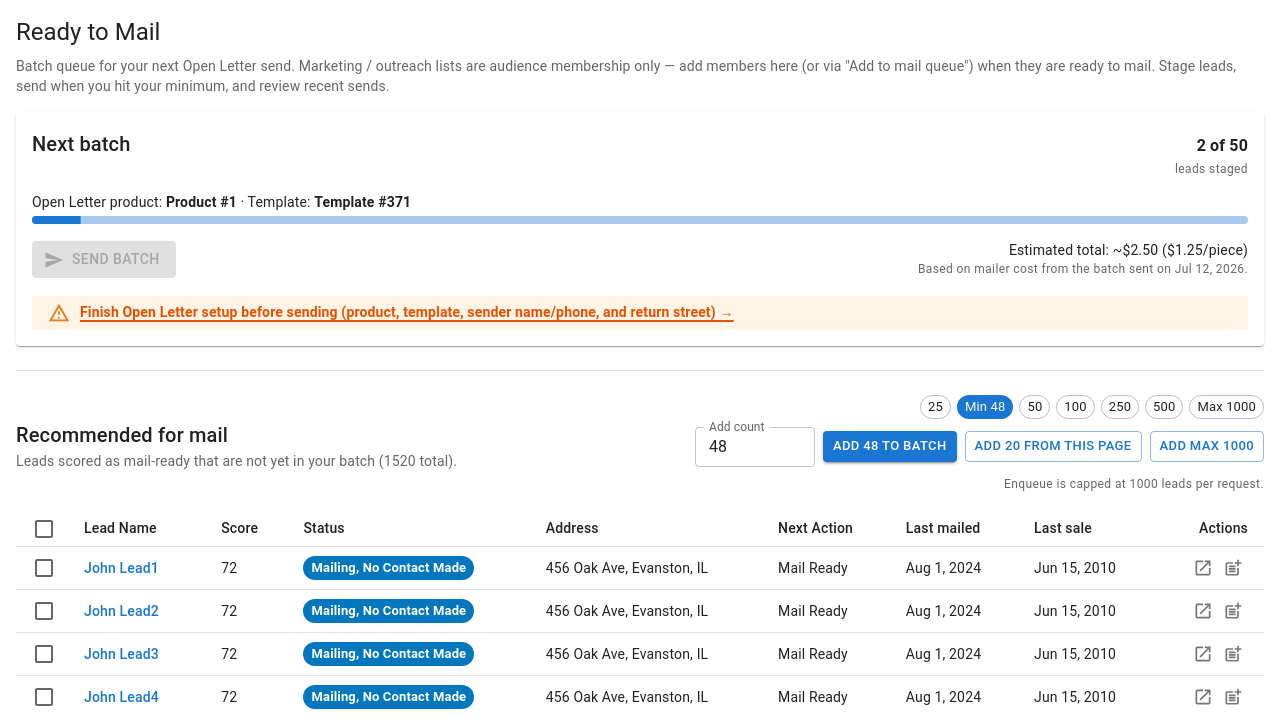
Test case: ReadyToMailQueue › shows loading-more state after page add strips rows while total remains
Check: the text "(1520 total)" is shown, box [16, 450, 457, 470]
Click the button with test id "add-page-candidates-button" at [1053, 447], box [964, 431, 1142, 462]
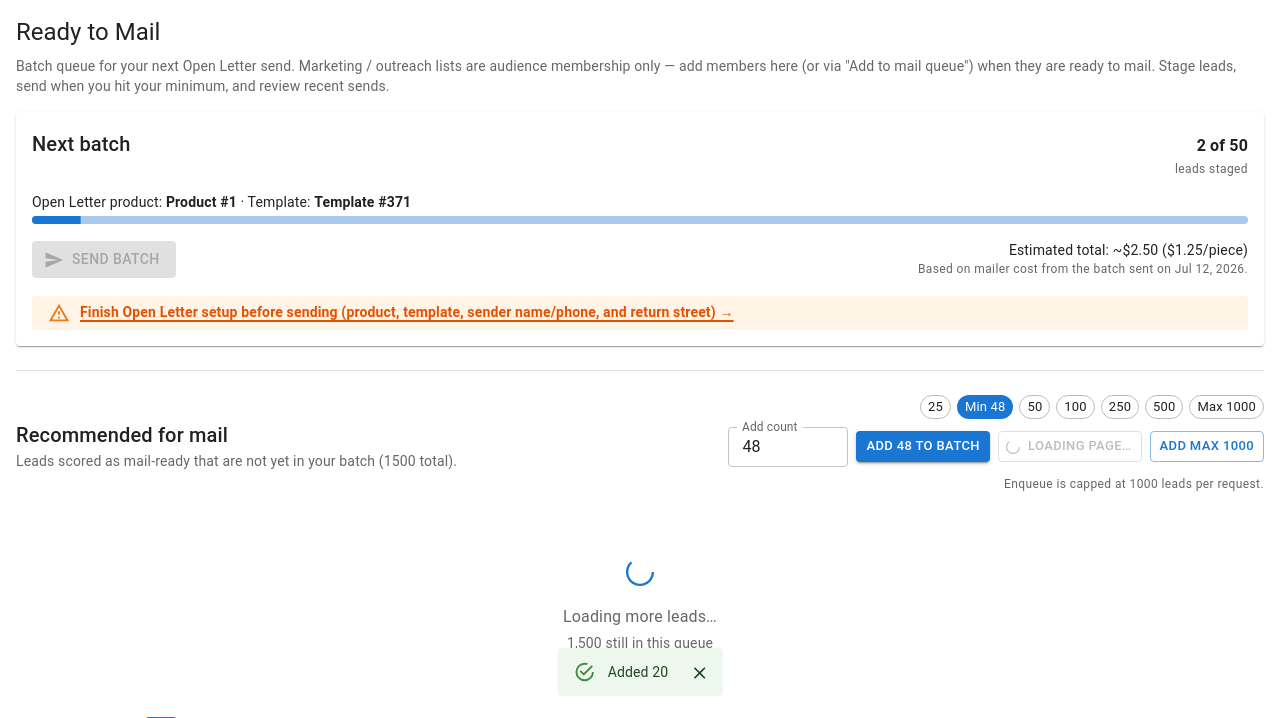
Check: the message "Loading more leads… 1,500 still in this queue" is shown, box [563, 558, 717, 652]
Check: the text "1,500 still in this queue" is shown, box [567, 636, 713, 652]
